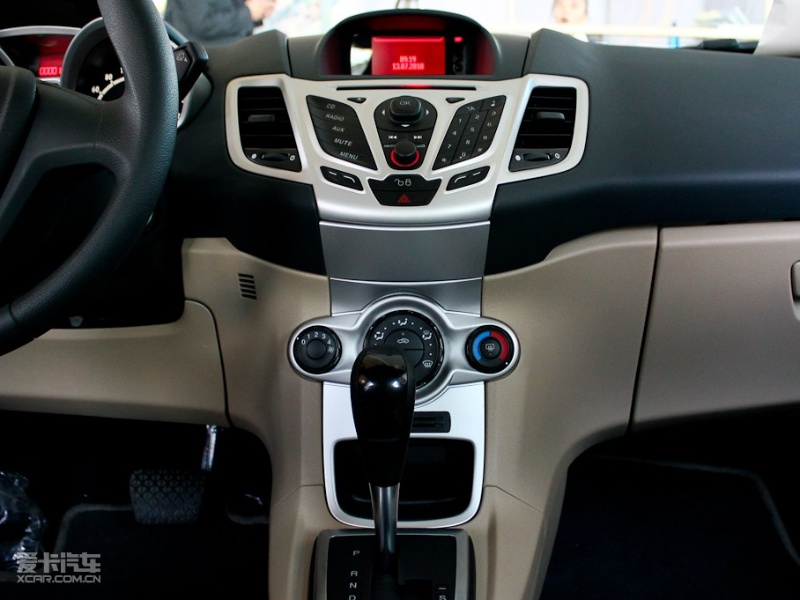control_center: (232, 4, 584, 264)
gear_lever: (290, 283, 506, 600)
odometer: (29, 26, 179, 95)
steering_wheel: (10, 15, 229, 324)
